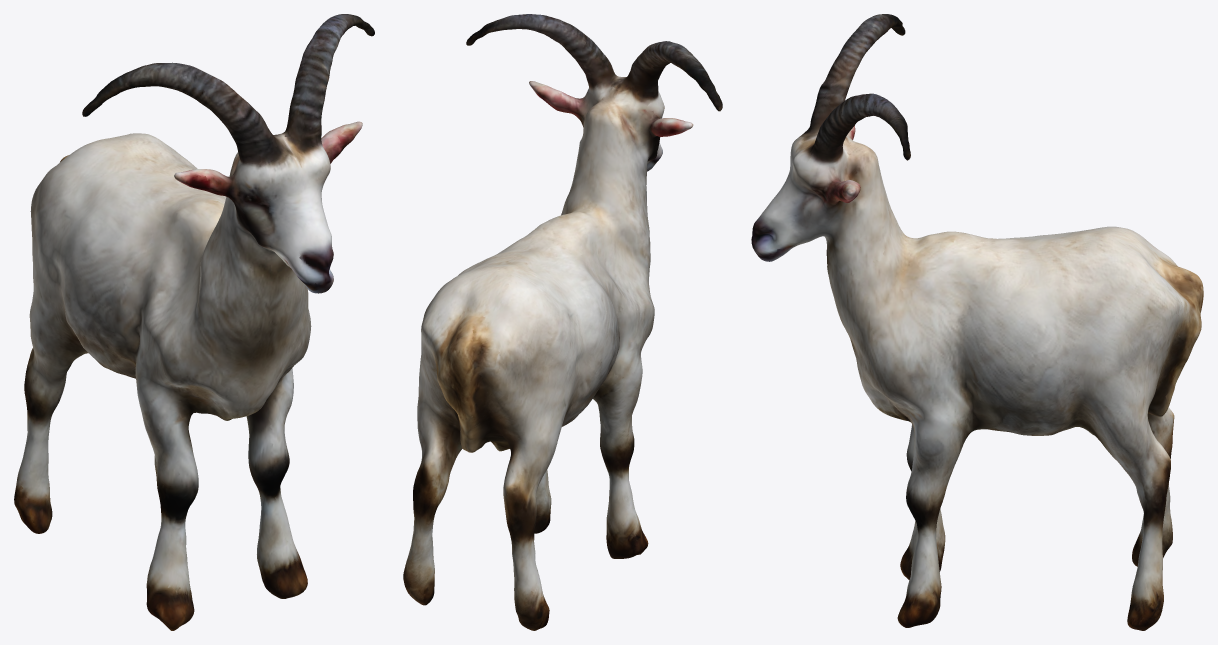
The model's file is white-goat-2015-Corona-fbx.fbx.
3 renders of one model, left to right at view 1: azimuth 30°, elevation 25°; view 2: azimuth 150°, elevation 25°; view 3: azimuth 270°, elevation 25°, orthographic. The views are drawn at different scales.
Visible parts, largest first — view 1: white-goat; view 2: white-goat; view 3: white-goat.
Boxes of the visible parts, x1=… form: white-goat: x1=14, y1=14, x2=374, y2=630; white-goat: x1=403, y1=14, x2=722, y2=630; white-goat: x1=751, y1=14, x2=1203, y2=630.
Bounding box in the file's own units: 1031 × 1966 × 1475.
